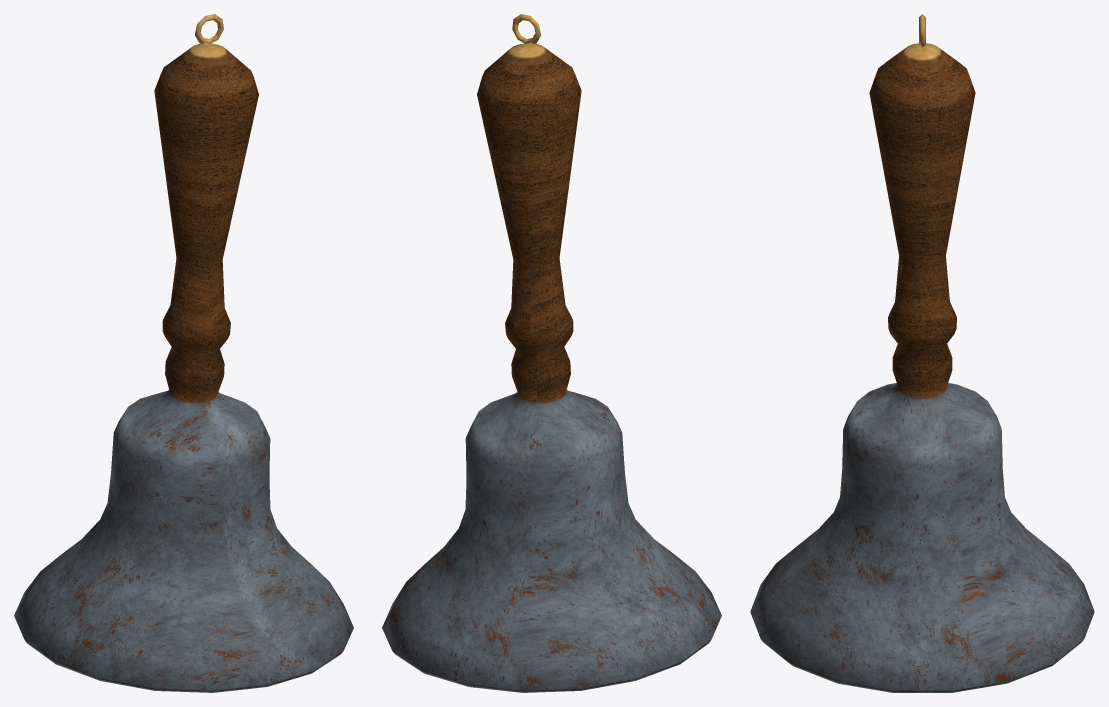
The model's file is hand-bell.fbx.
3 views of the same model, side by side, from view 1: azimuth 30°, elevation 25°; view 2: azimuth 150°, elevation 25°; view 3: azimuth 270°, elevation 25° (orthographic).
Visible parts, largest first — view 1: Bell; view 2: Bell; view 3: Bell.
Part boxes in pixels (x1=…): Bell: x1=14, y1=14, x2=353, y2=692; Bell: x1=382, y1=14, x2=721, y2=692; Bell: x1=750, y1=14, x2=1094, y2=692.
Size of the model in its own units: 156 by 153 by 314.
